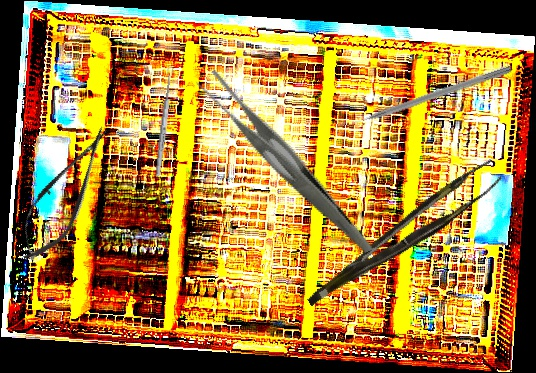Dressing Forceps: (193, 41, 374, 288)
Micro Scissor: (5, 115, 125, 272)
Pusher: (339, 62, 513, 132)
Surgical Spoon: (154, 65, 175, 178)
Tissue Forceps: (292, 158, 510, 307)
